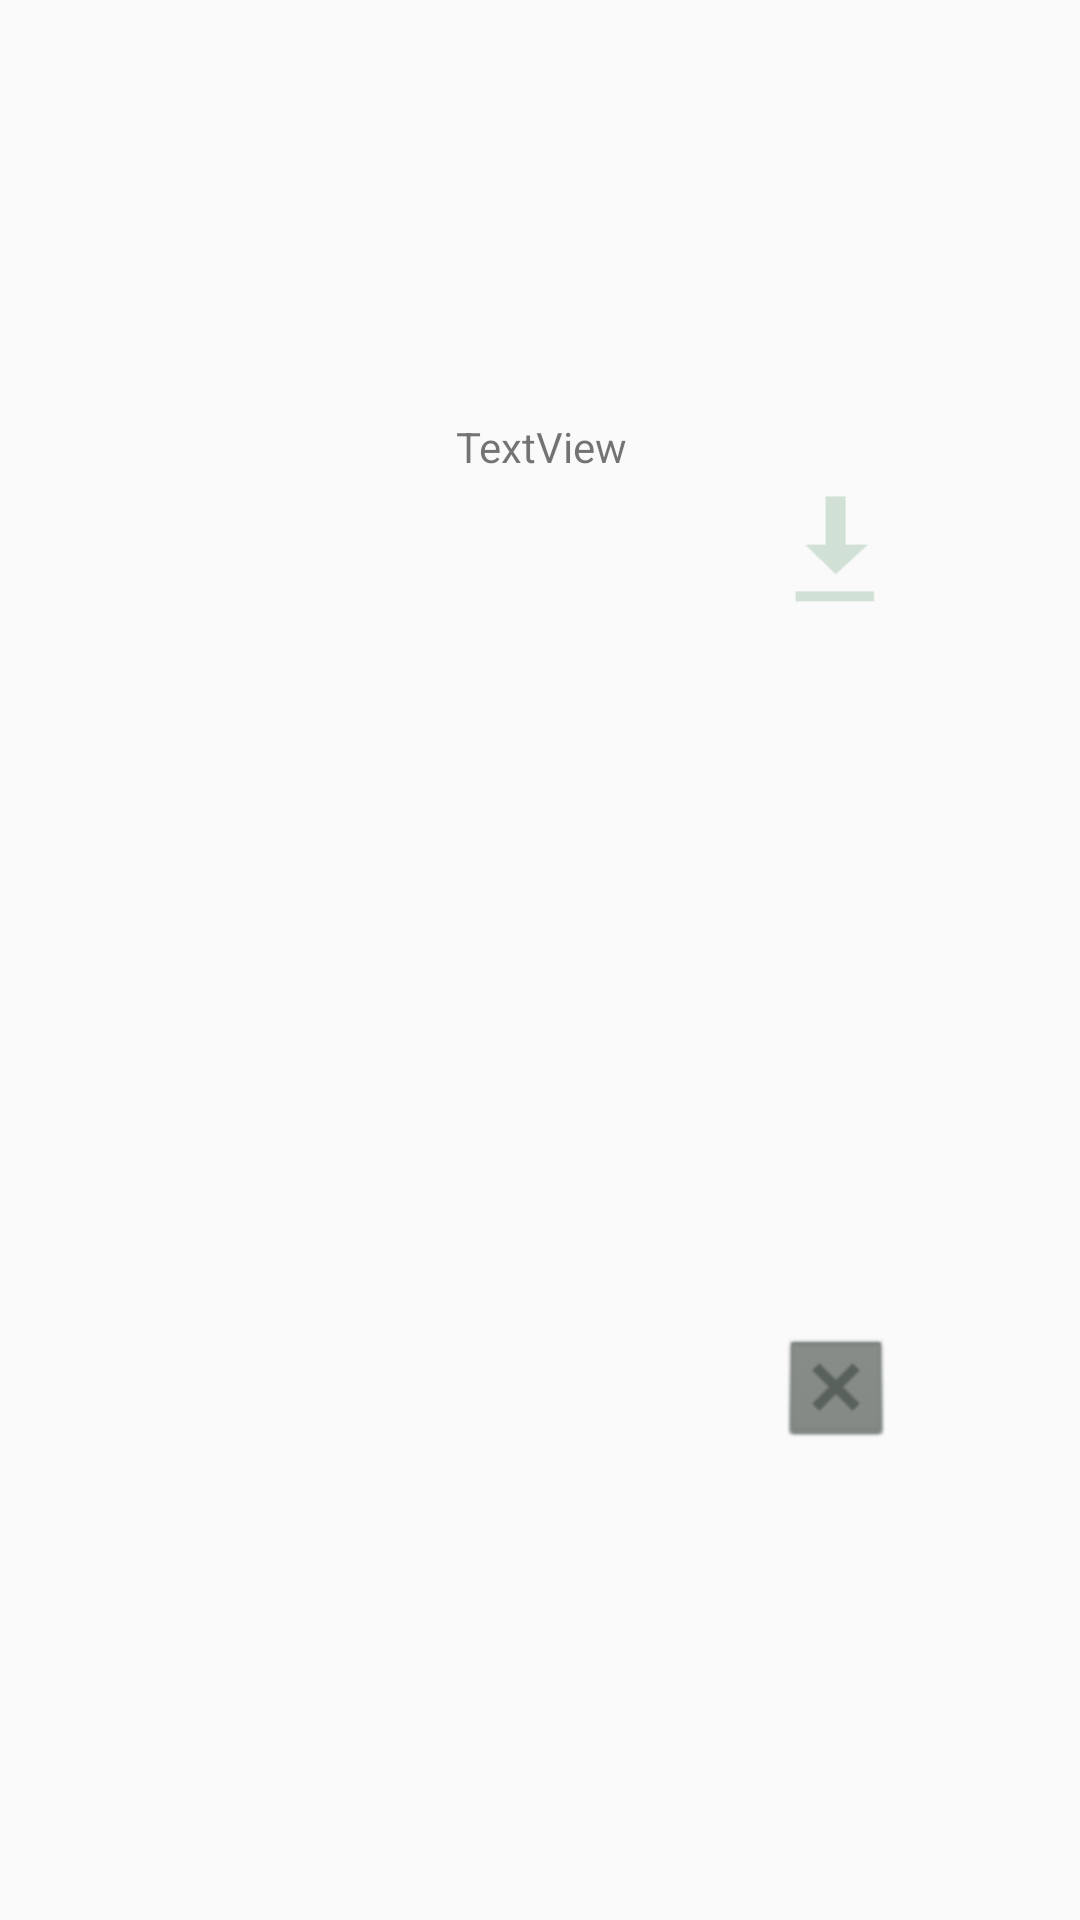

Screen size 1080px x 1920px. Icon name, then its center in pixels as [x,y]:
download: [835,548]
